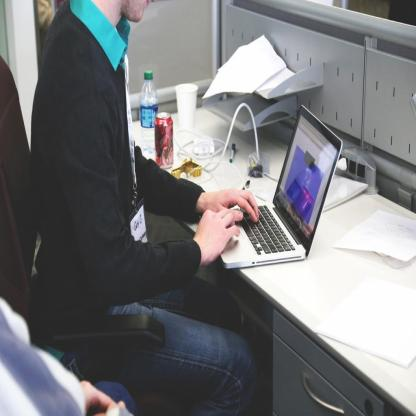board: (225, 117, 342, 272), (141, 72, 158, 154), (175, 82, 198, 130), (155, 110, 173, 167)
